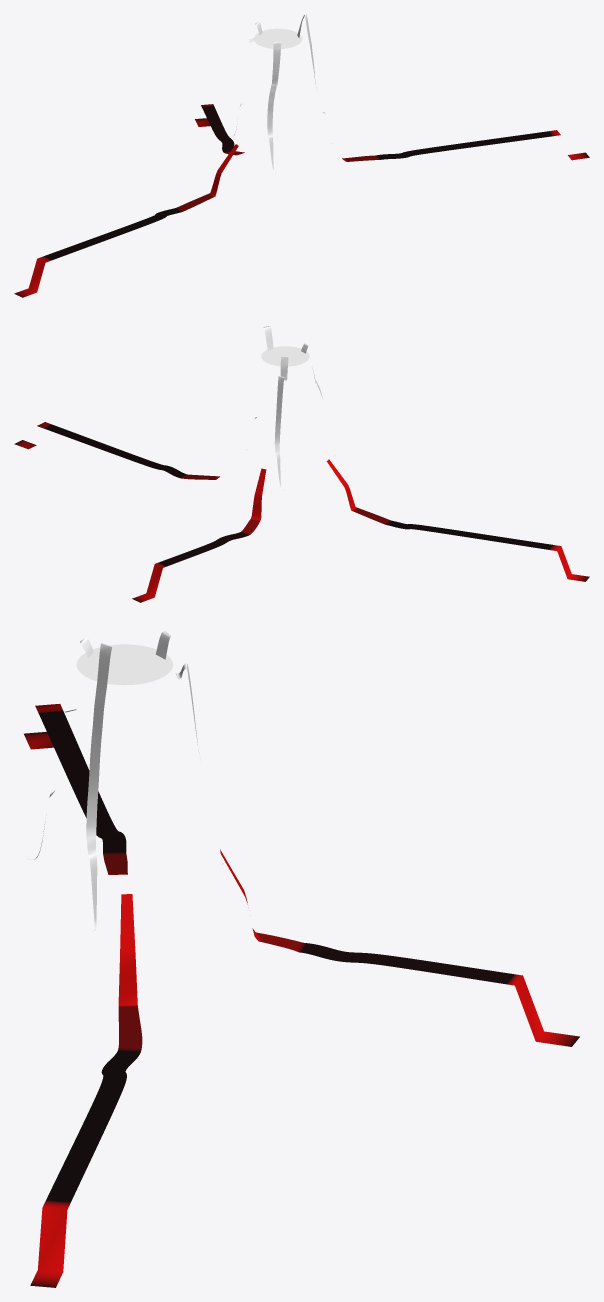
The model's file is nuoc.glb.
The picture shows the model from 3 angles, top to bottom: view 1: azimuth 30°, elevation 25°; view 2: azimuth 150°, elevation 25°; view 3: azimuth 270°, elevation 25°; orthographic projection. The views are drawn at different scales.
Parts seen in each view (by area): view 1: song, dung_nham; view 2: song, dung_nham; view 3: song, dung_nham.
Part boxes in pixels (bbox=[...]): song: bbox=[14, 104, 589, 297]; dung_nham: bbox=[229, 14, 334, 173]; song: bbox=[14, 422, 589, 602]; dung_nham: bbox=[245, 326, 336, 490]; song: bbox=[24, 704, 579, 1287]; dung_nham: bbox=[26, 631, 225, 931].
Bounding box in the file's own units: 131 × 41.97 × 55.28.
